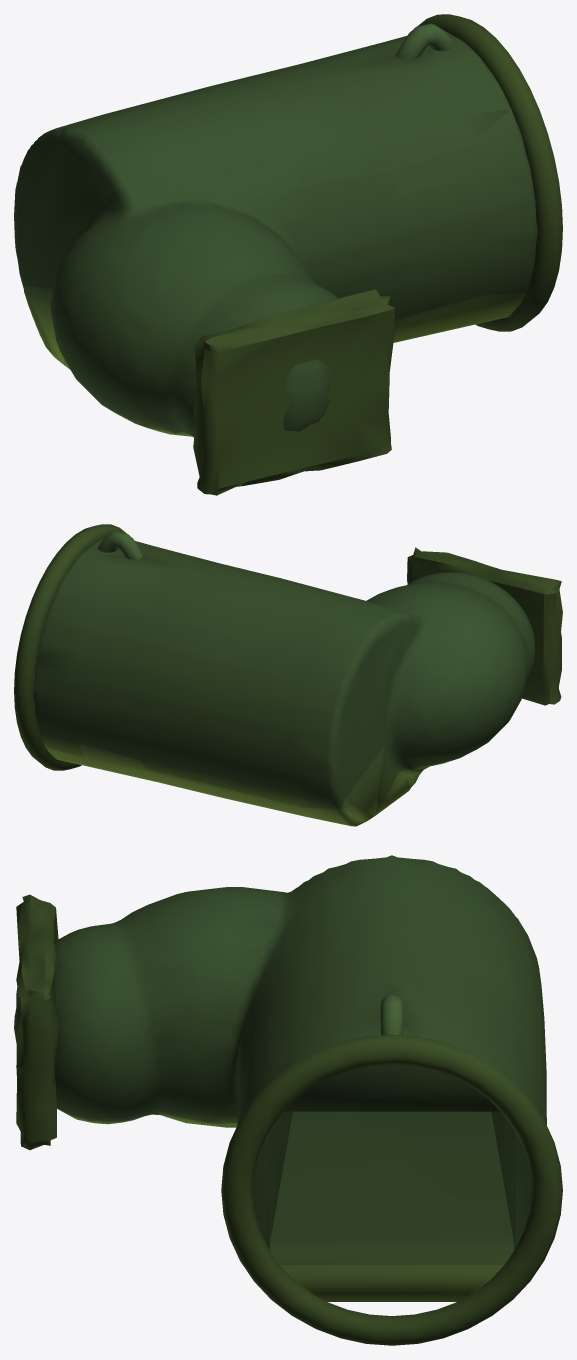
The model's file is mire_drowned_boot_lod1.glb.
The picture shows the model from 3 angles, top to bottom: view 1: azimuth 30°, elevation 25°; view 2: azimuth 150°, elevation 25°; view 3: azimuth 270°, elevation 25°; orthographic projection. The views are drawn at different scales.
Visible parts, largest first — view 1: mire_drowned_boot.001; view 2: mire_drowned_boot.001; view 3: mire_drowned_boot.001.
Part boxes in pixels (bbox=[...]): mire_drowned_boot.001: bbox=[14, 14, 562, 495]; mire_drowned_boot.001: bbox=[14, 524, 562, 826]; mire_drowned_boot.001: bbox=[14, 855, 562, 1345].
Bounding box in the file's own units: 11.99 × 7.22 × 11.15.
